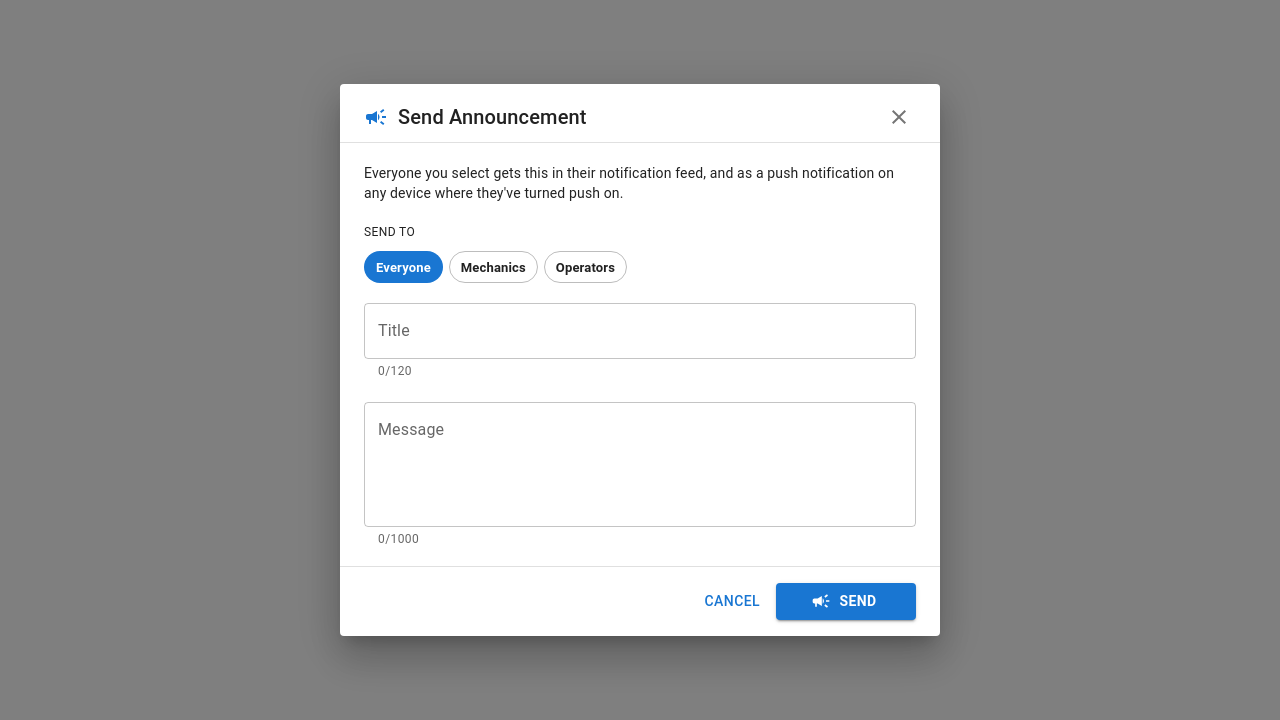
it: SendAnnouncementDialog › clears the composer between sends
The width and height of the screenshot is (1280, 720).
Type "First" into the field labelled "Title" at {"x": 640, "y": 331}, box [364, 303, 916, 359]
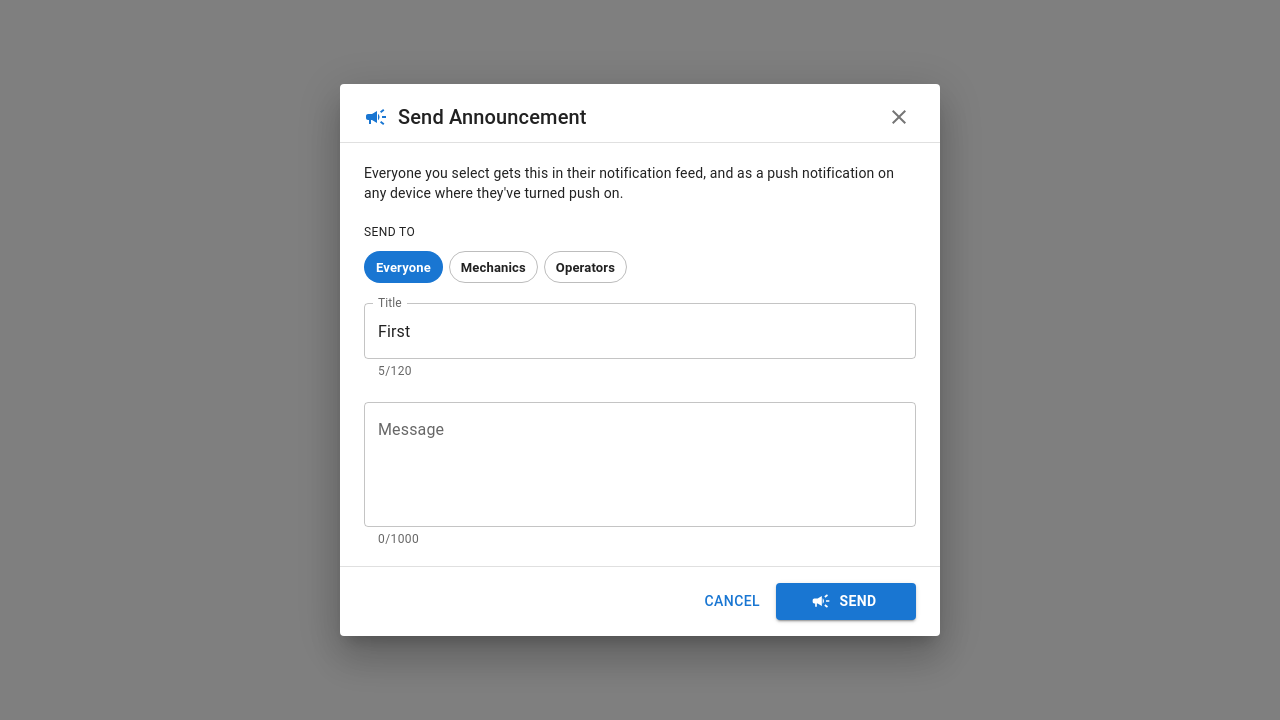
Type "Body" into the text box labelled "Message" at {"x": 640, "y": 465}, box [378, 419, 902, 511]
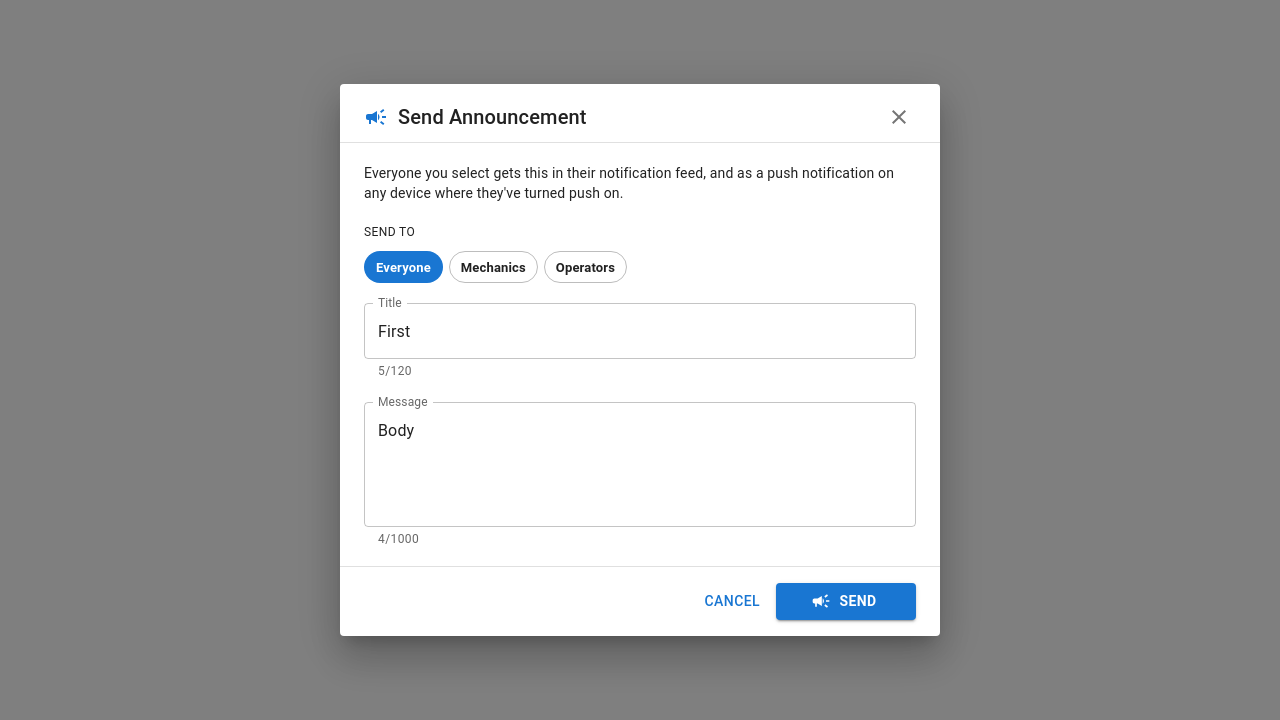
Click the button "Send" at {"x": 846, "y": 601}, box [776, 583, 916, 620]
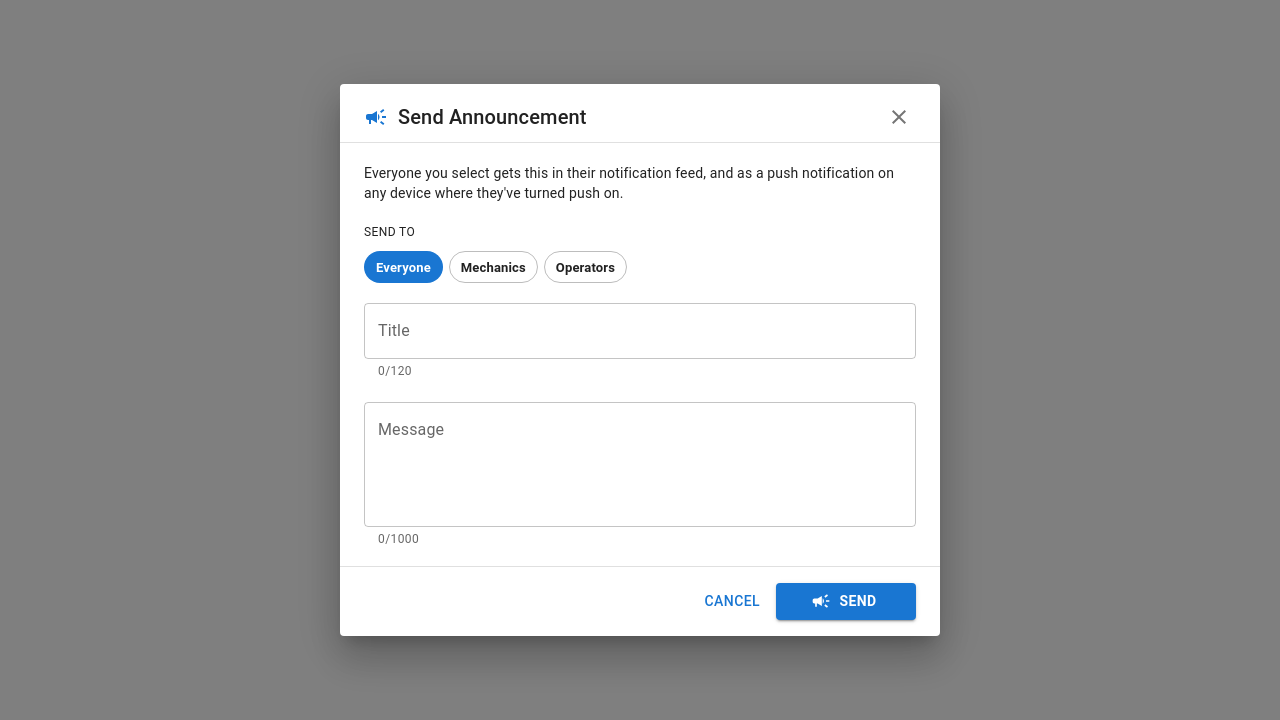
Check: the field labelled "Title" is empty, box [364, 303, 916, 359]
